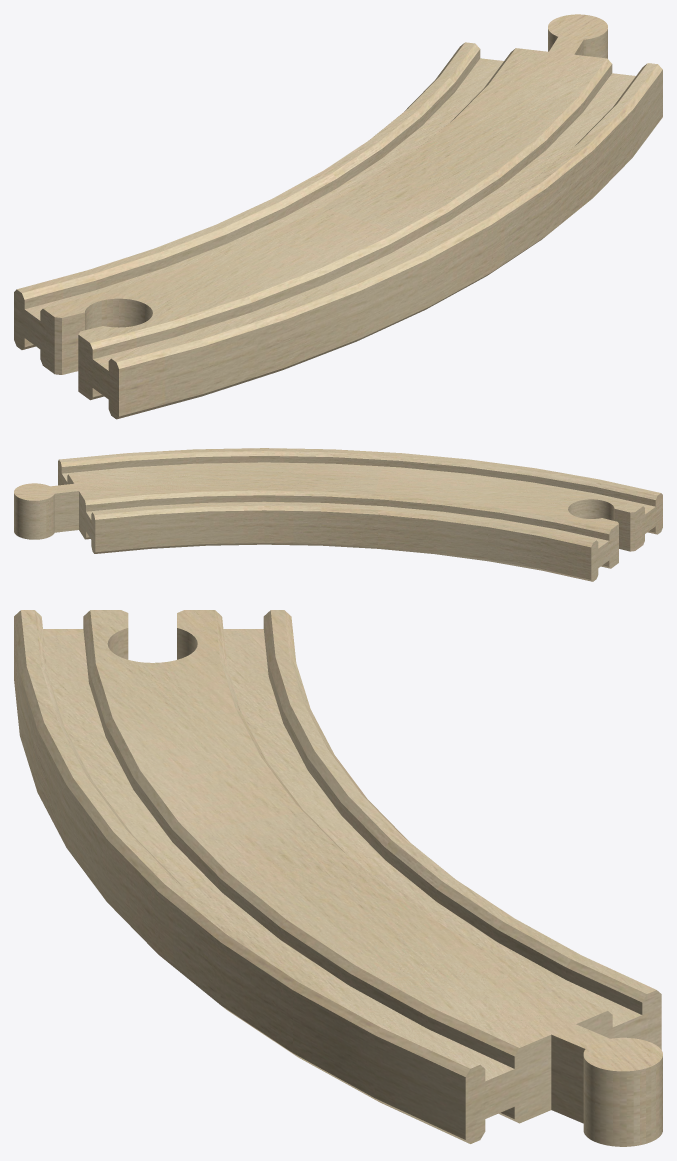
3 renders of one model, top to bottom at view 1: azimuth 30°, elevation 25°; view 2: azimuth 150°, elevation 25°; view 3: azimuth 270°, elevation 25°, orthographic. The views are drawn at different scales.
Parts seen in each view (by area): view 1: SketchUp; view 2: SketchUp; view 3: SketchUp.
Part boxes in pixels (left/top/right/bottom): SketchUp: left=14, top=14, right=662, bottom=419; SketchUp: left=14, top=448, right=662, bottom=581; SketchUp: left=14, top=610, right=662, bottom=1146.
Bounding box in the file's own units: 6.19 × 3.68 × 0.4724.
